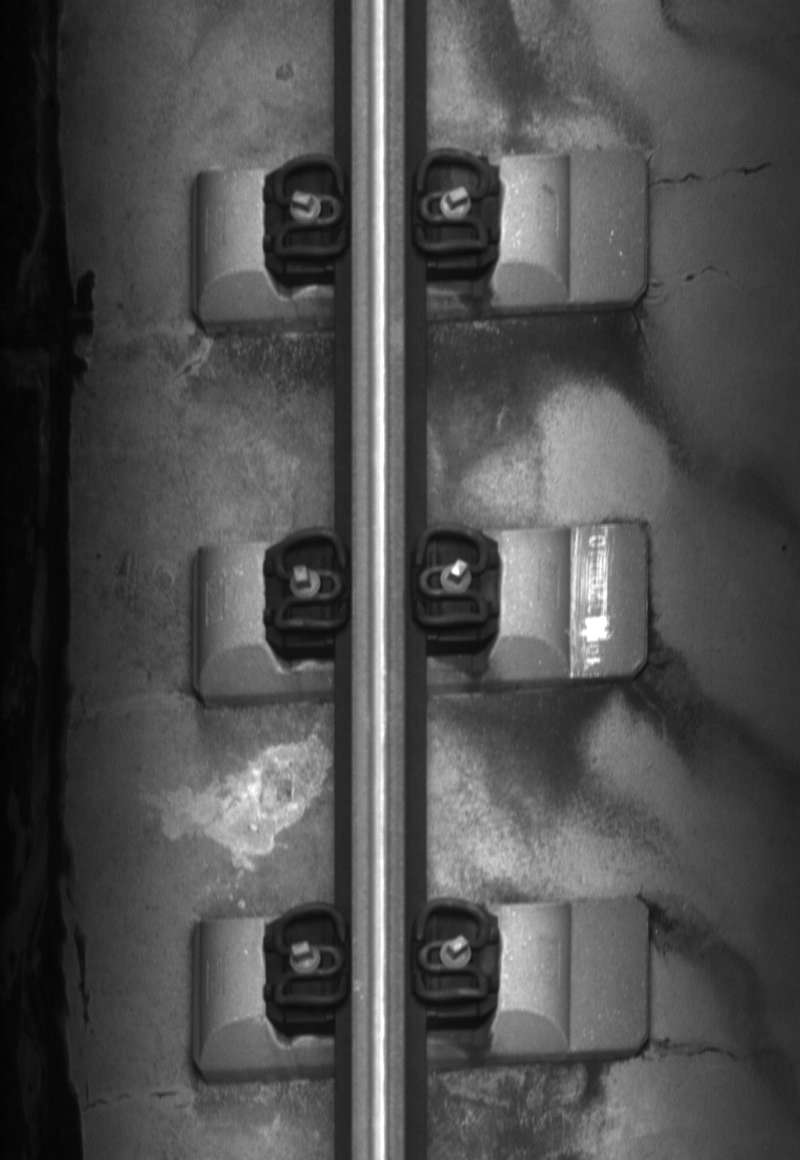l_faster: (267, 523, 352, 638), (267, 151, 351, 264), (268, 900, 352, 1011)
r_faster: (411, 148, 494, 259), (410, 523, 494, 632), (412, 895, 490, 1002)
